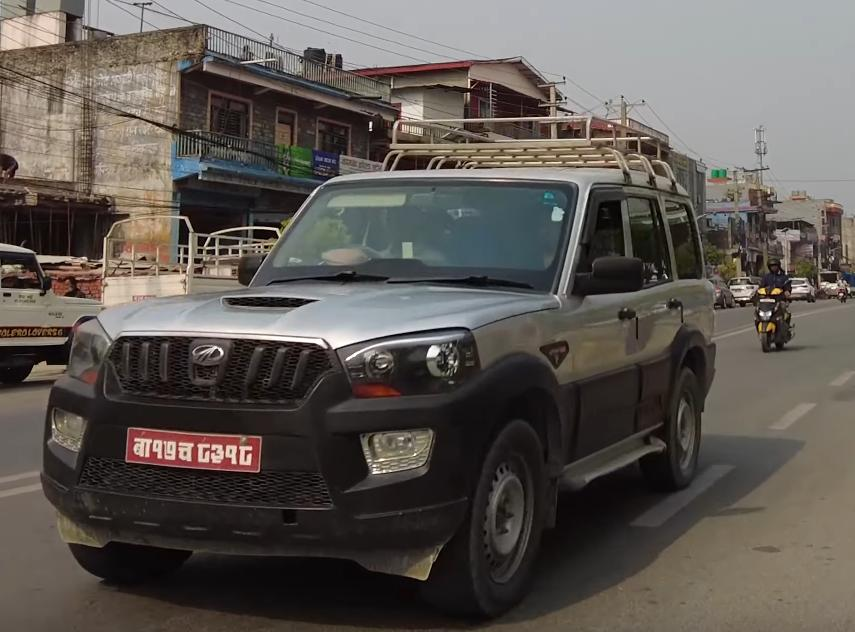SUV: (25, 135, 719, 621)
scooter: (744, 279, 797, 357)
